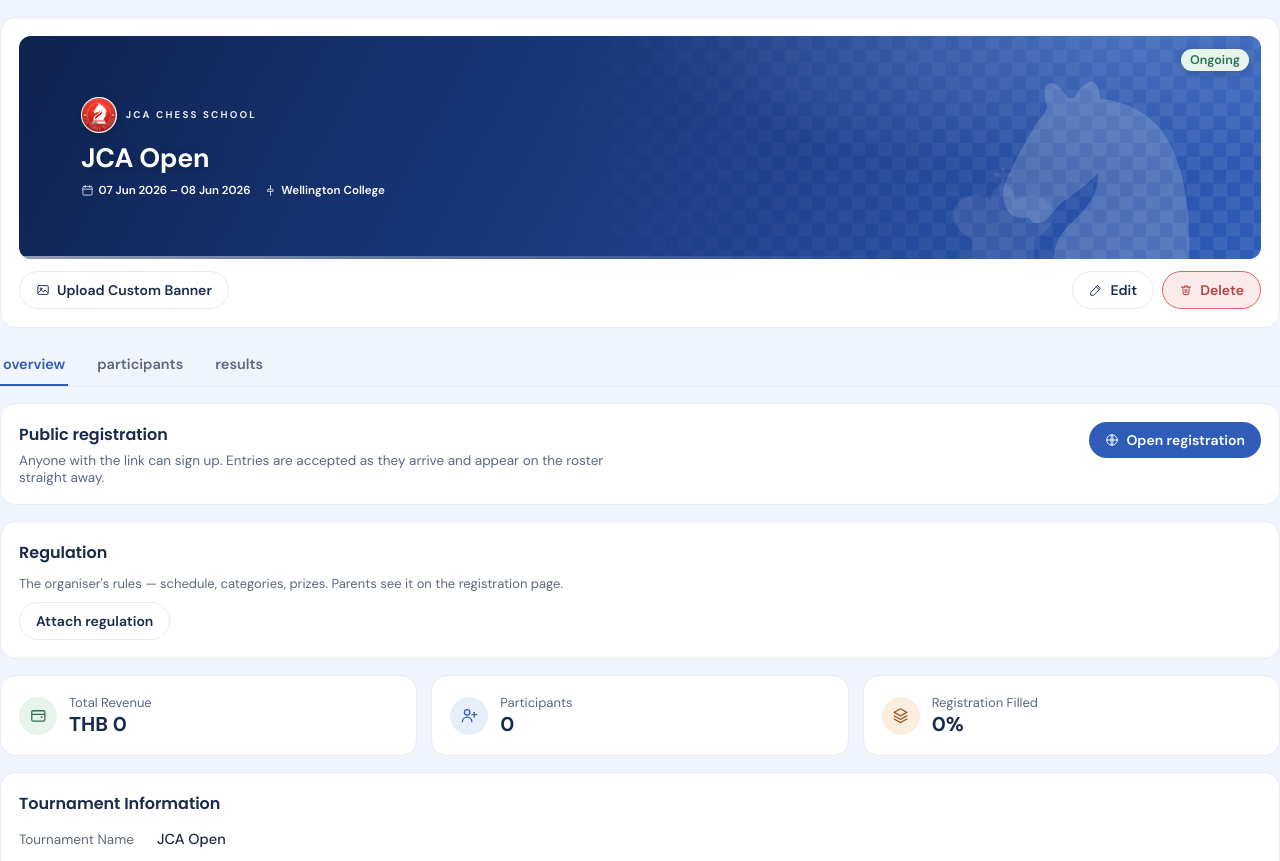
Test: removing an age group with entrants › keeps the group when the ask is refused
Click the button "Edit" at {"x": 1113, "y": 290}, box [1072,271,1154,309]
(page scrolled)
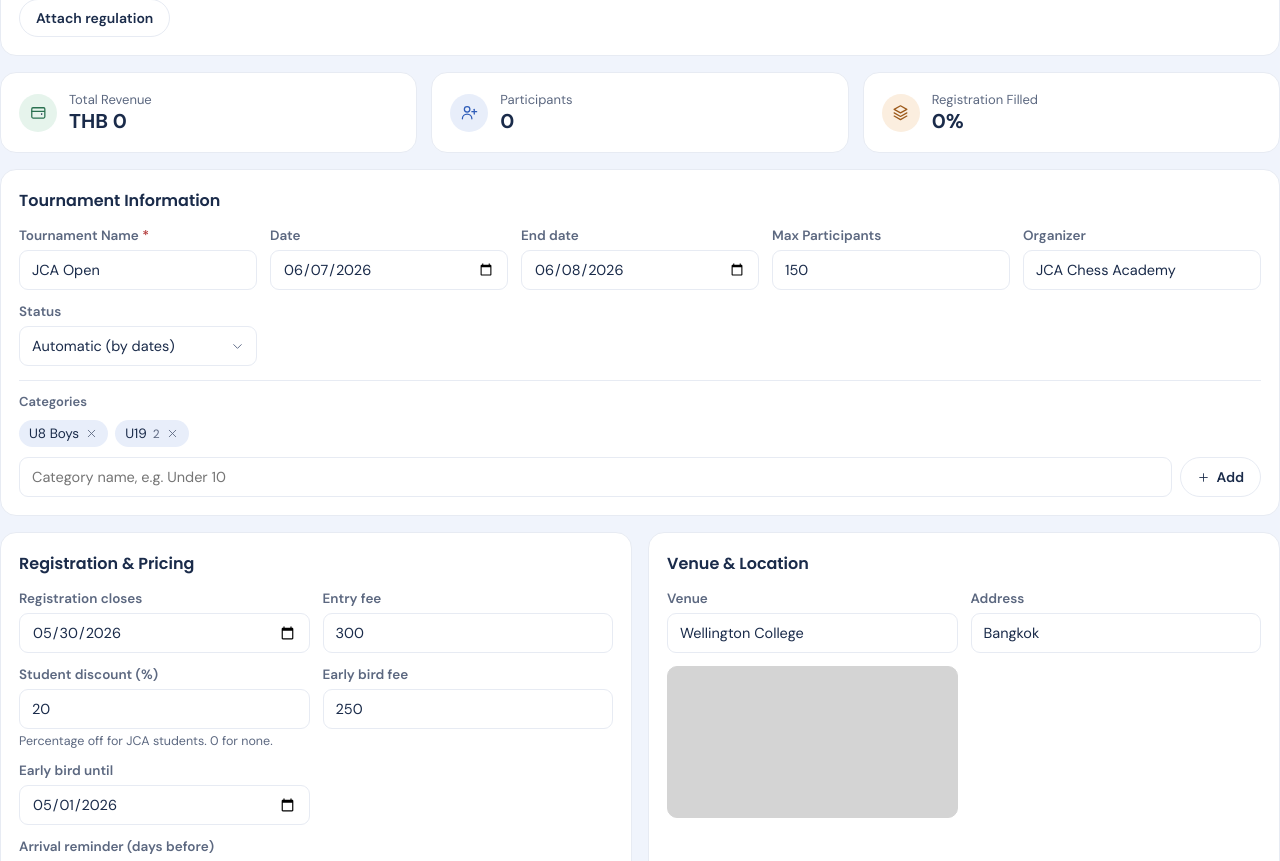
Click the button named "Delete U19" at {"x": 172, "y": 434}, box [166,427,179,440]
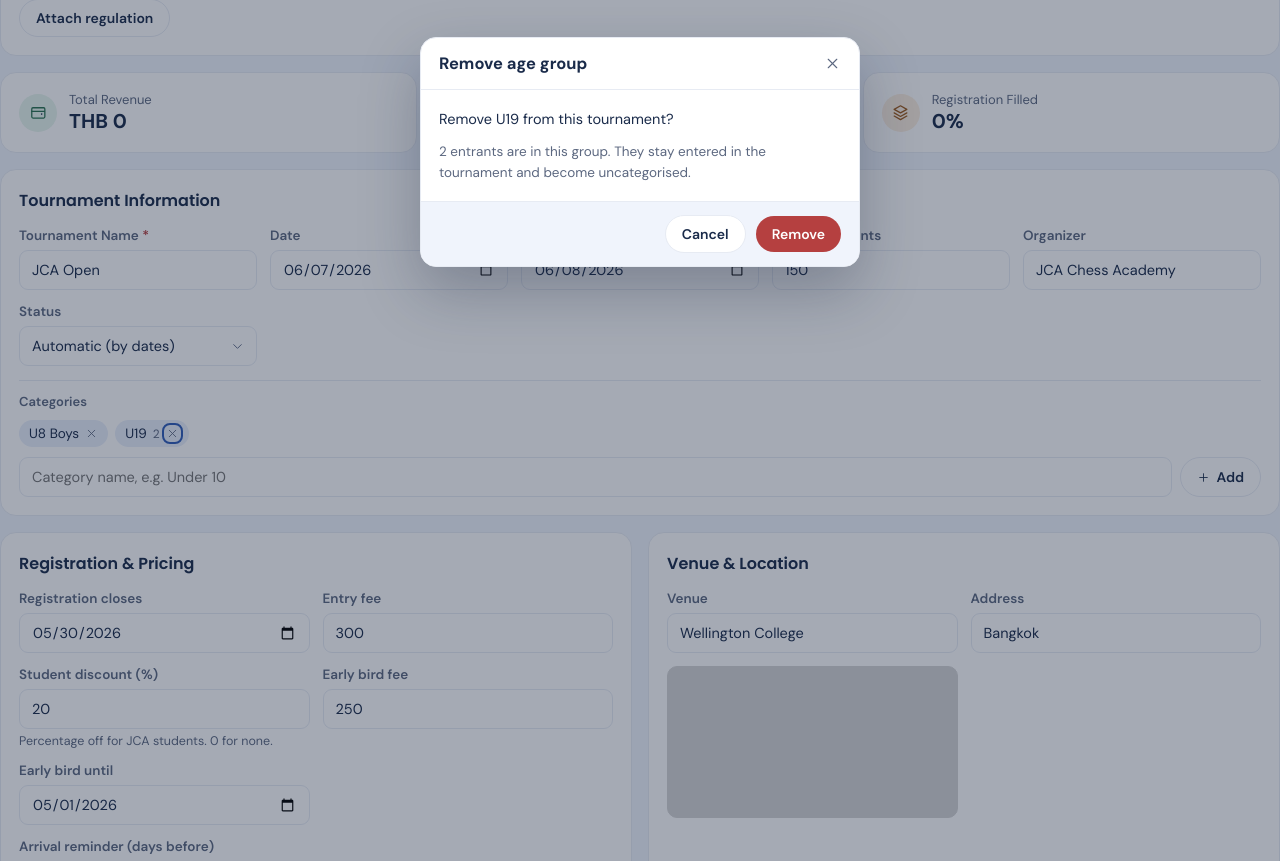
Expected: the dialog is shown, [420,37,860,267]
Click the button "Cancel" at {"x": 705, "y": 234}, box [665,215,746,253]
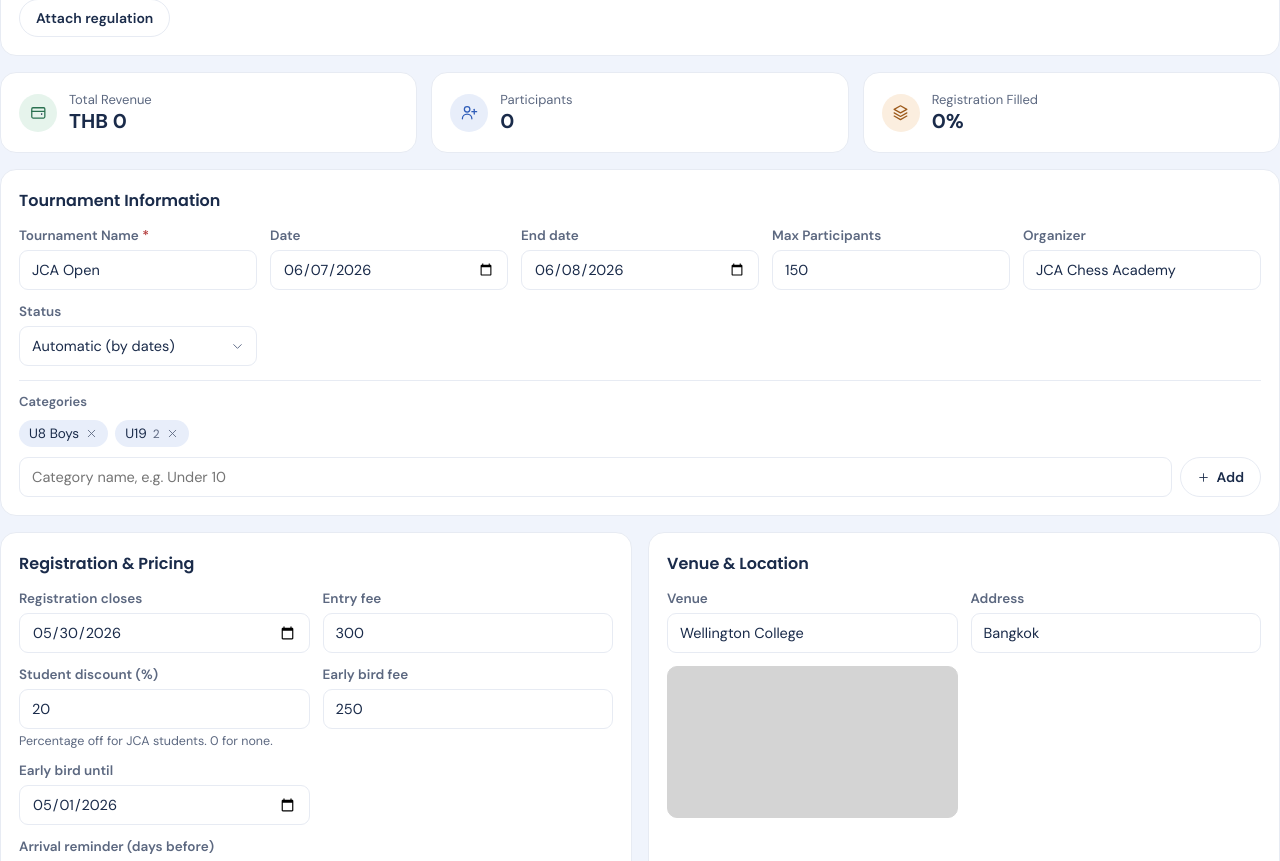
Expected: the dialog is gone
